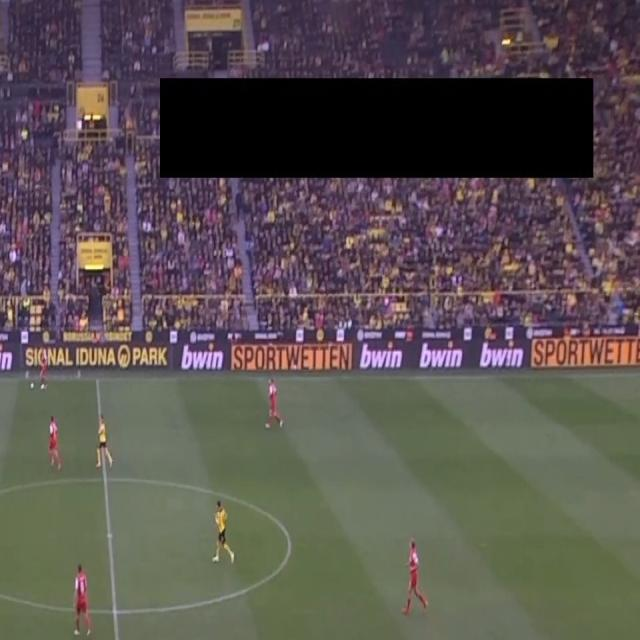ball: (30, 380, 35, 390)
